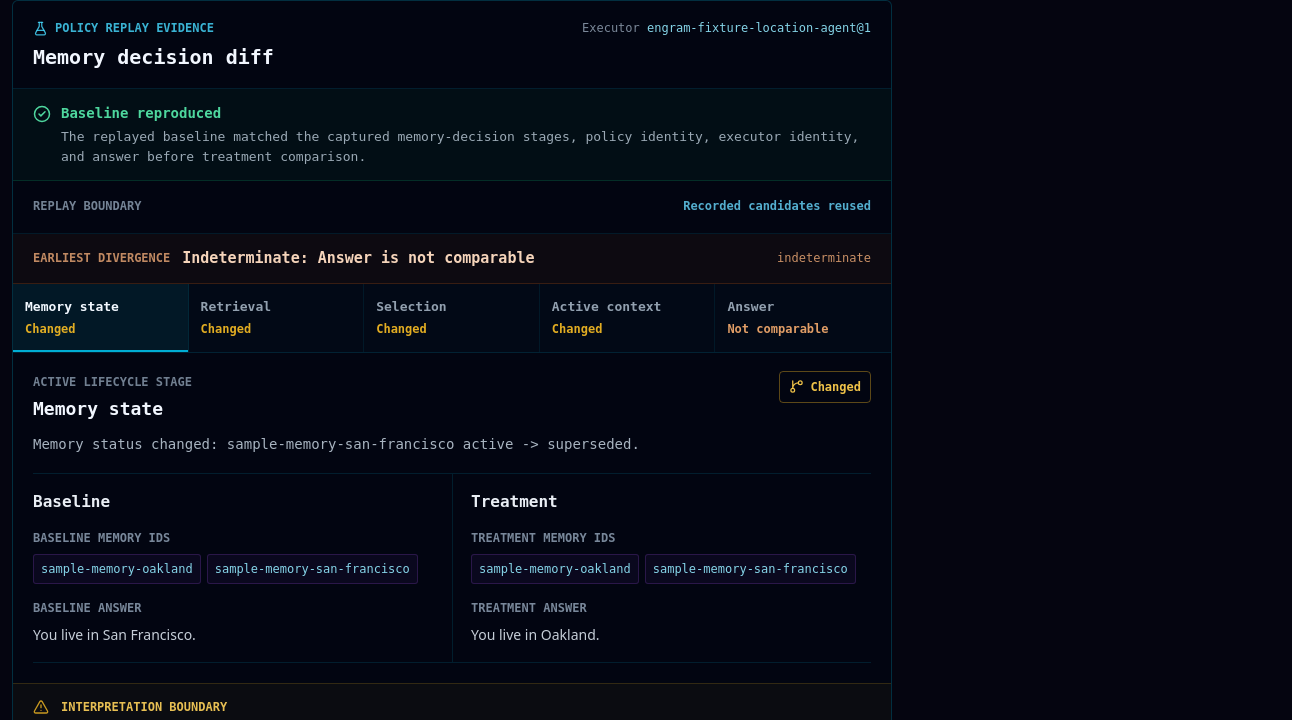
Test: CausalMemoryDiff › does not label incomparable evidence as unchanged
Check: the element labelled "Earliest divergence" shows "Indeterminate: Answer is not comparable", box [182,249,534,267]
Click the tab with aria-label "Answer: Not comparable" at (803, 318), box [715,284,891,352]
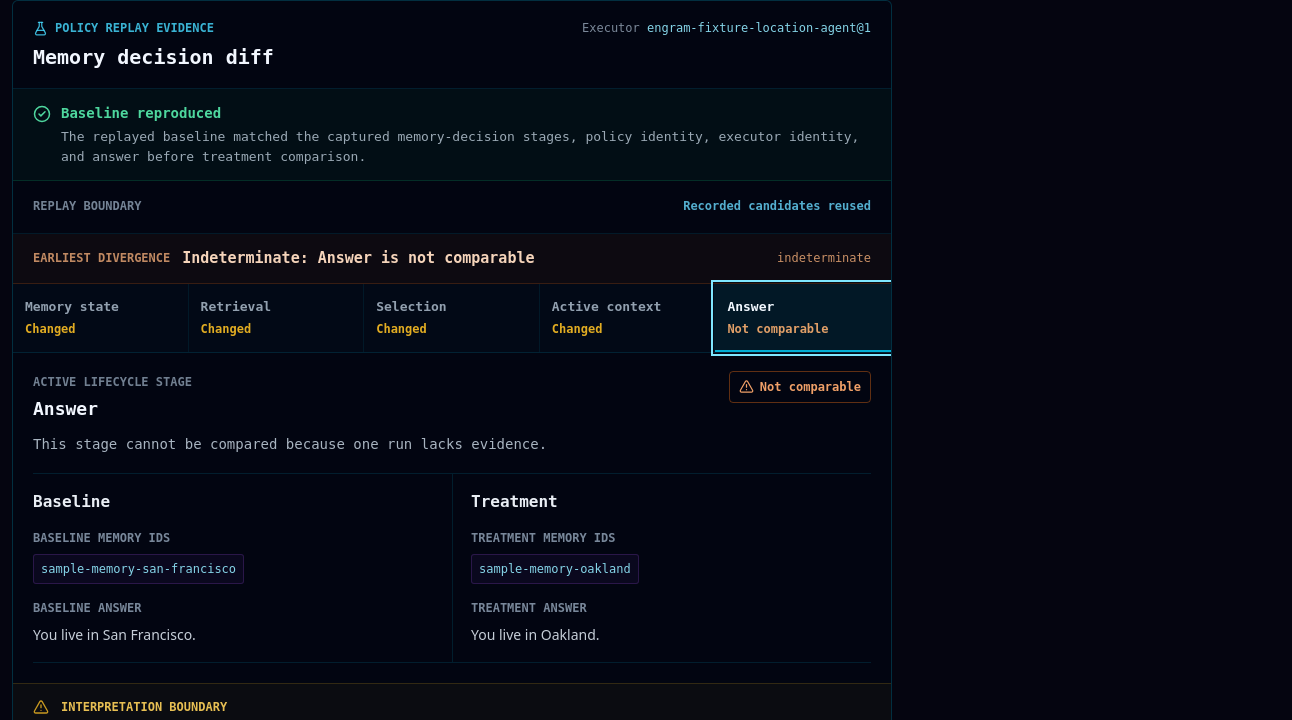
Check: the panel does not show "Unchanged", box [13,352,891,683]
Check: the panel shows "Not comparable", box [760,380,861,394]
